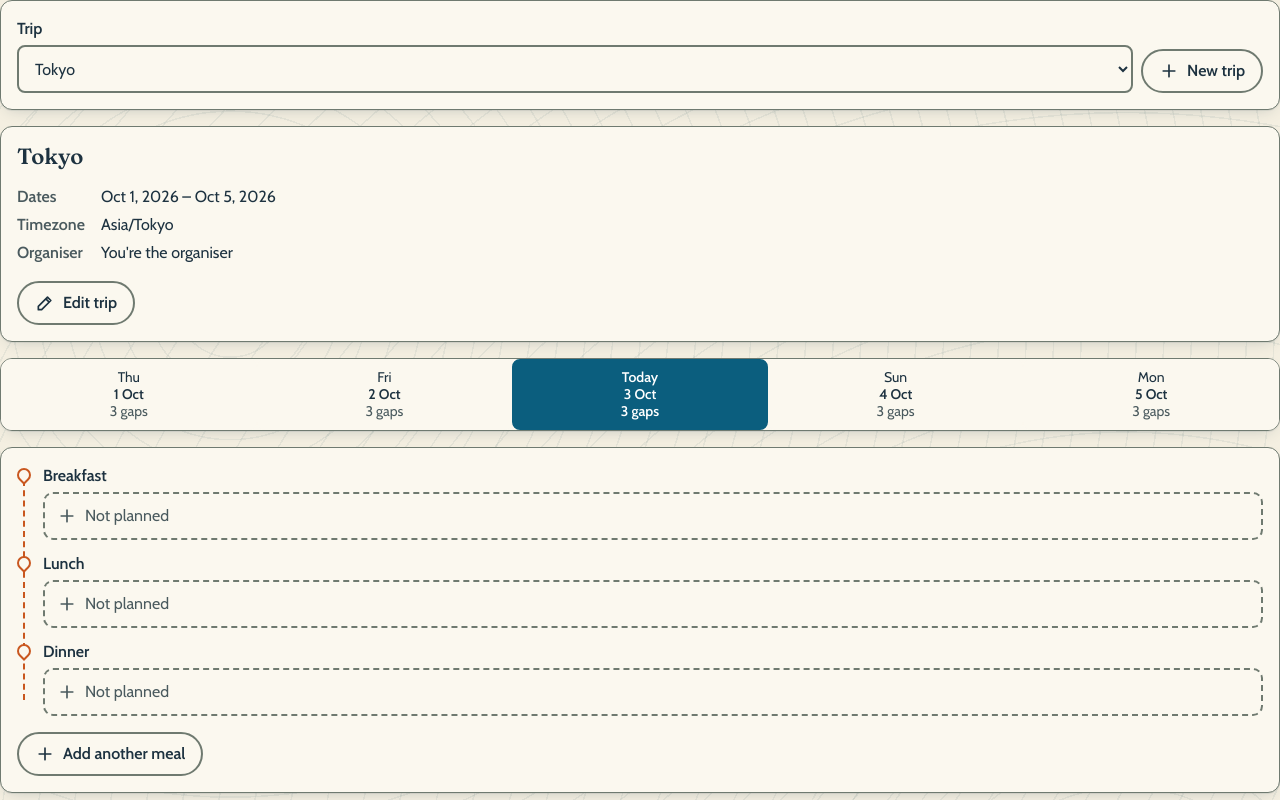
Test: editing a trip › shortening the dates past existing meals warns with a list of them
Click the button "Edit trip". click: (76, 303)
box: [17, 281, 135, 325]
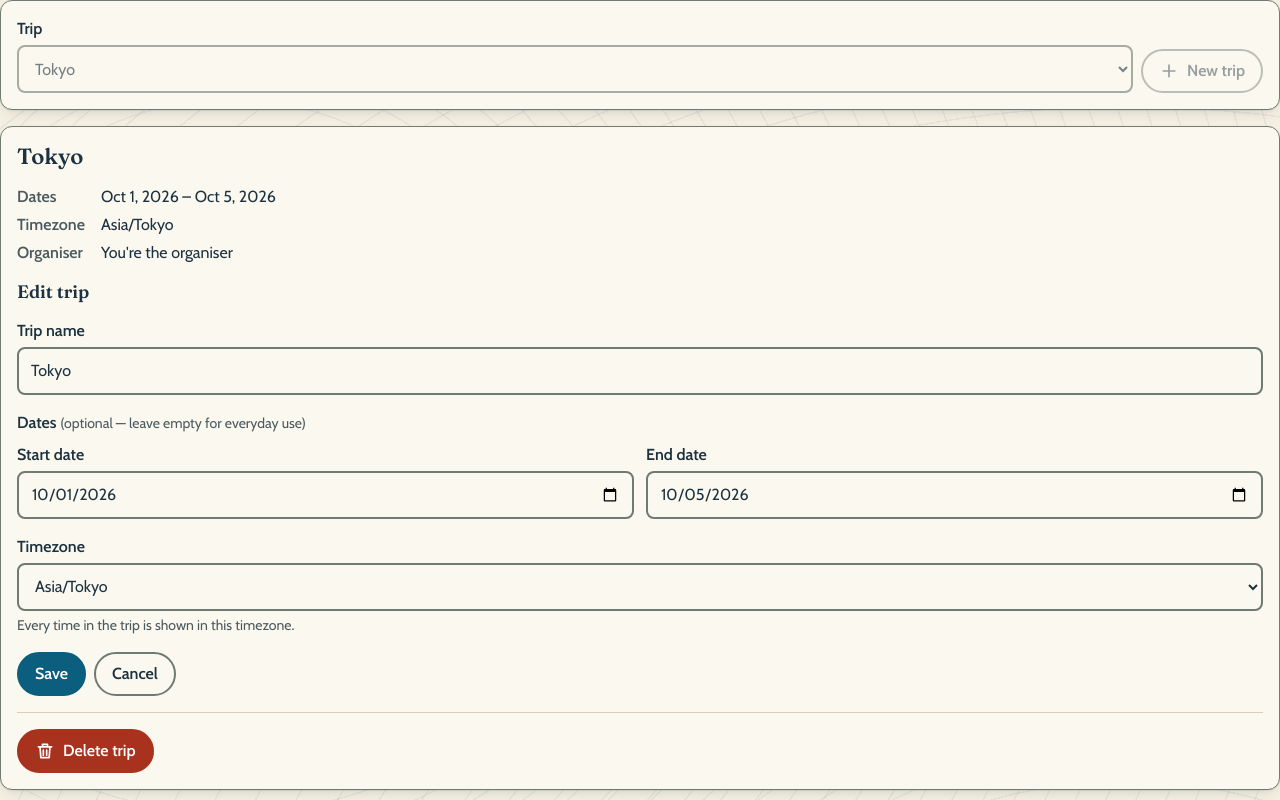
Type "2026-10-02" into the date field labelled "Start date". click: (326, 495)
box: [17, 471, 634, 519]
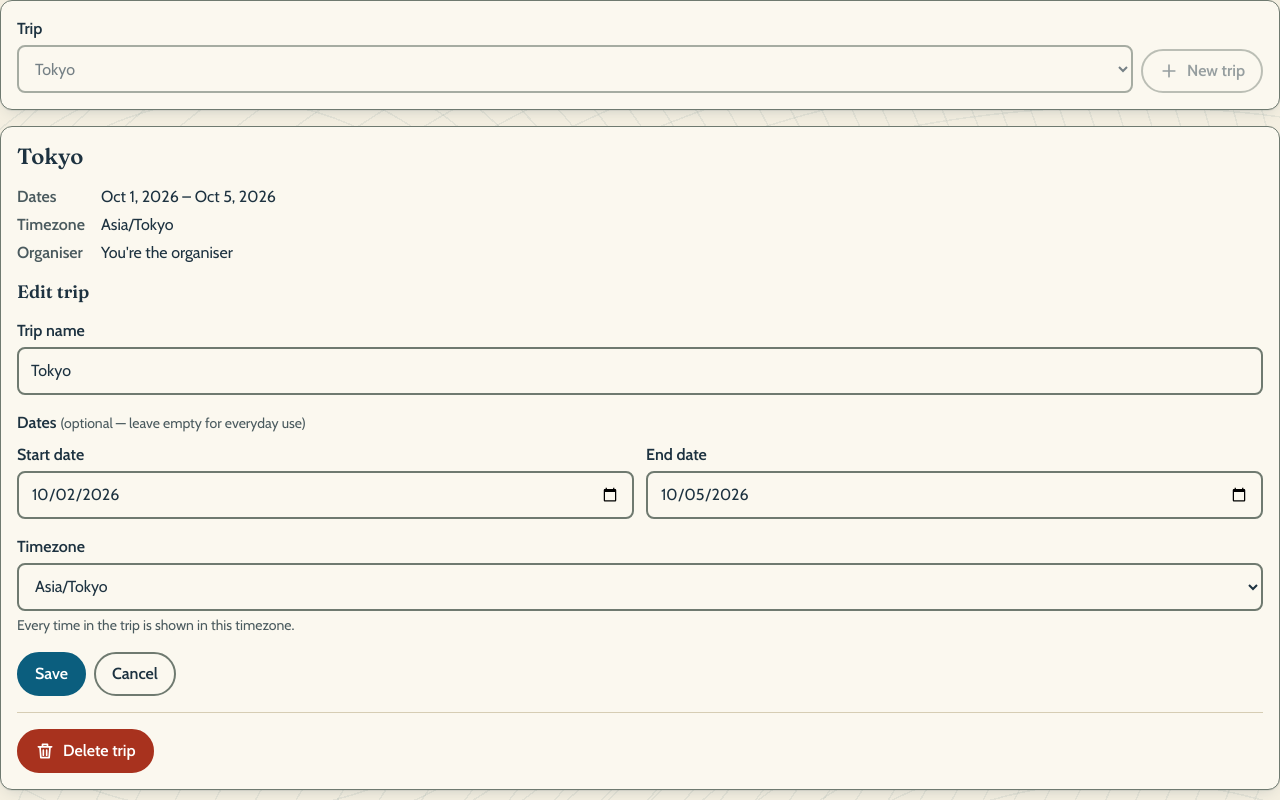
Type "2026-10-04" into the date field labelled "End date". click: (954, 495)
box: [646, 471, 1263, 519]
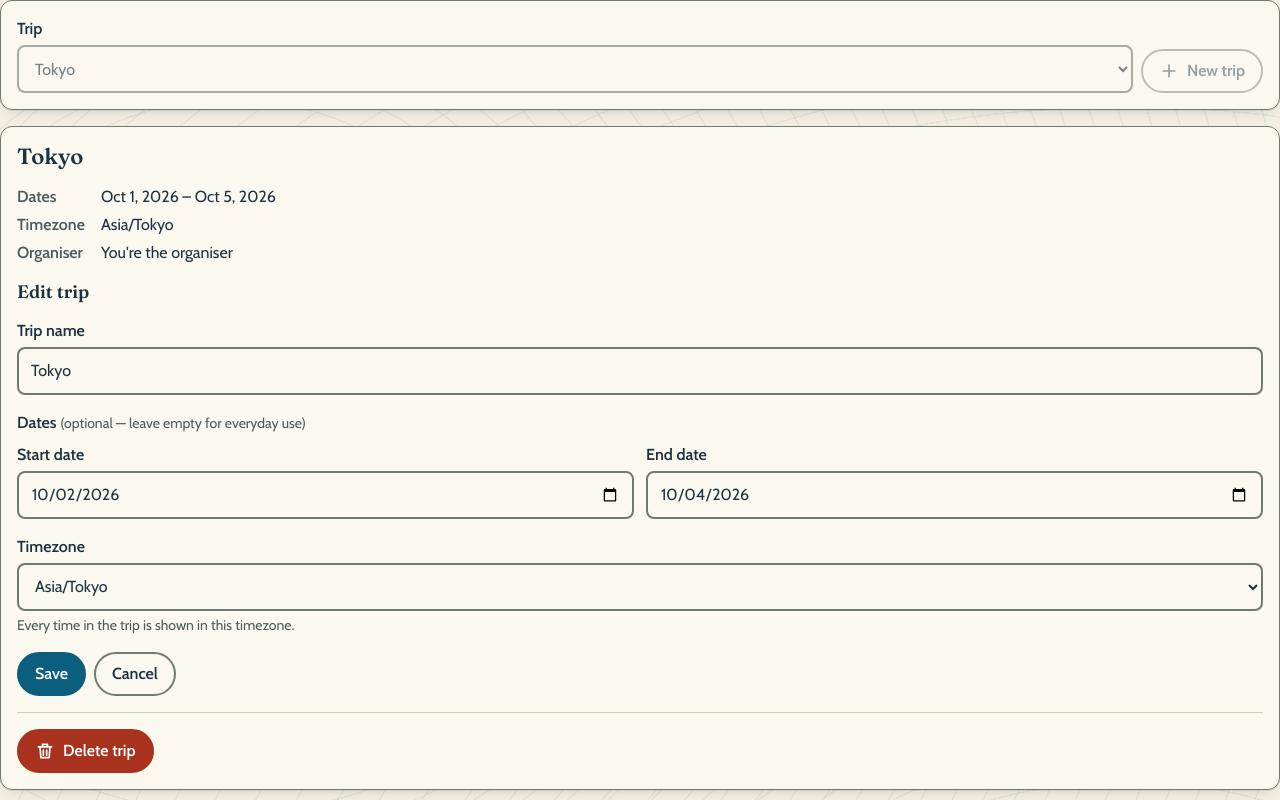
Submit the form, box [17, 281, 1263, 773]
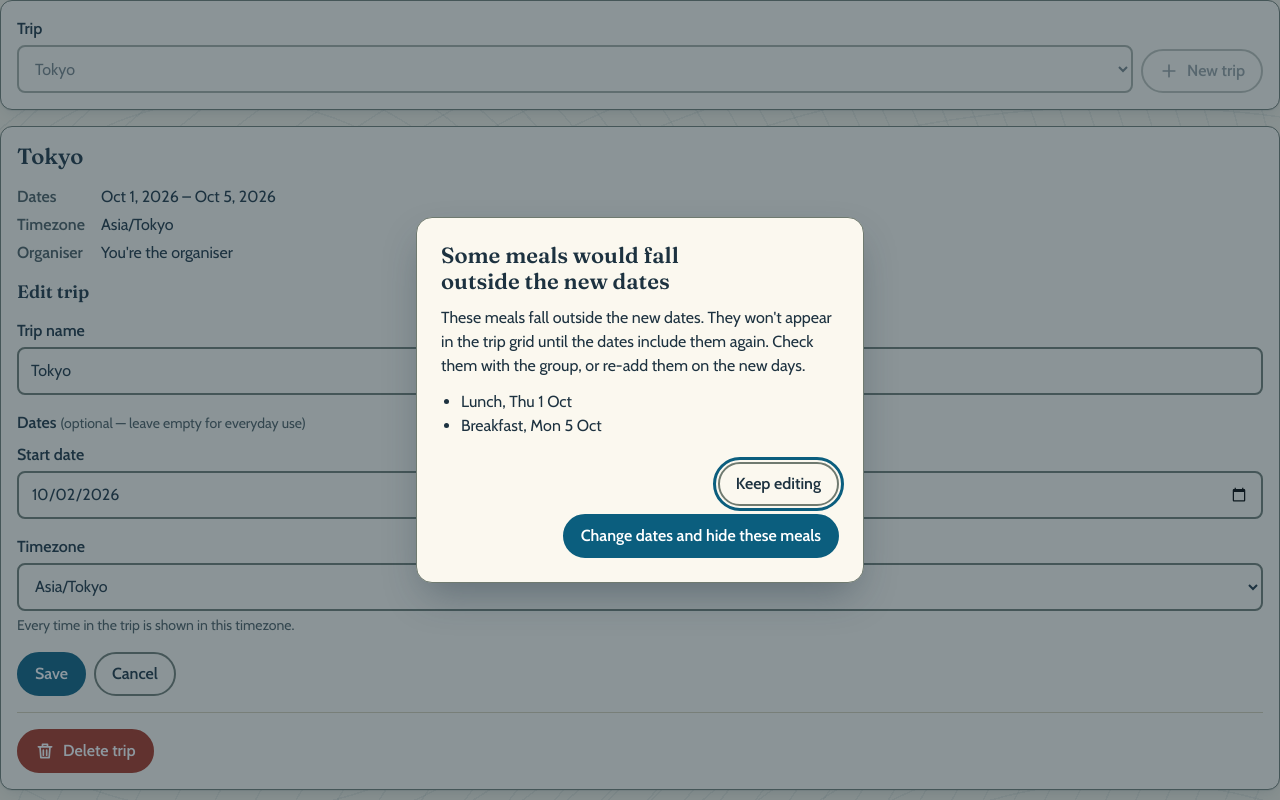
Expected: the list items read "Lunch, Thu 1 Oct", "Breakfast, Mon 5 Oct", in this order, [461, 392, 572, 411]; [461, 416, 602, 435]
